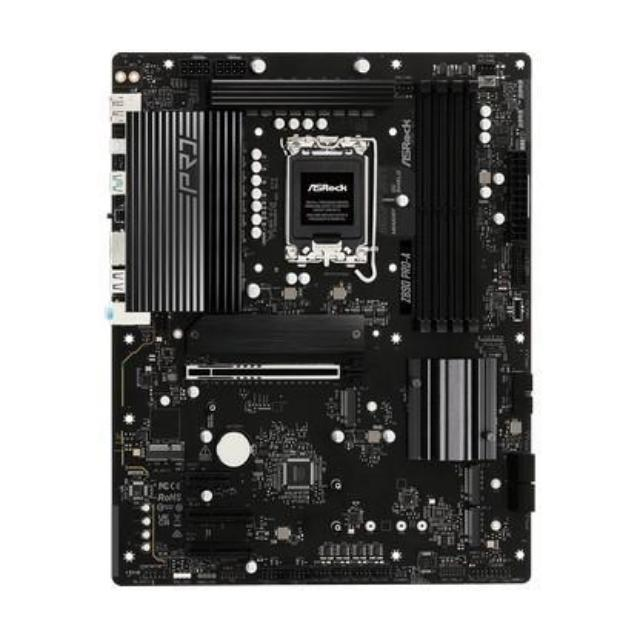Mainboard: (107, 50, 536, 590)
